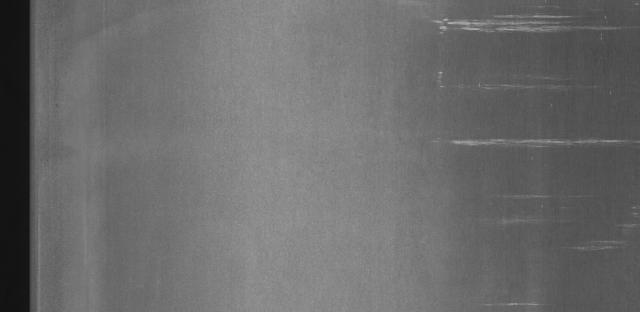waist_folding: (428, 12, 640, 299)
